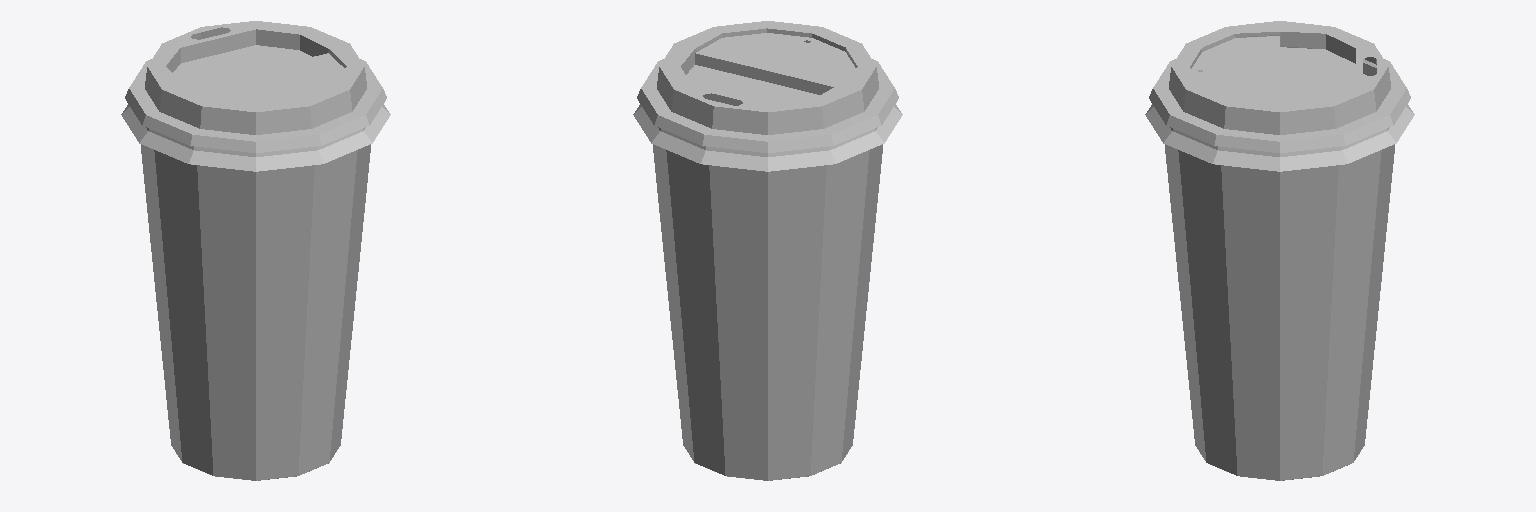
The model's file is cofee_cup.obj.
The picture shows the model from 3 angles: view 1: azimuth 30°, elevation 25°; view 2: azimuth 150°, elevation 25°; view 3: azimuth 270°, elevation 25°; orthographic projection.
Visible parts, largest first — view 1: cup, cap; view 2: cup, cap; view 3: cup, cap.
Boxes of the visible parts, box(x1,y1,x2,y2) form: cup: box(141, 144, 370, 480); cap: box(121, 21, 390, 171); cup: box(653, 144, 882, 480); cap: box(633, 21, 902, 171); cup: box(1165, 59, 1394, 480); cap: box(1145, 21, 1414, 171).
Size of the model in its own units: 9.51 by 14.75 by 9.51.